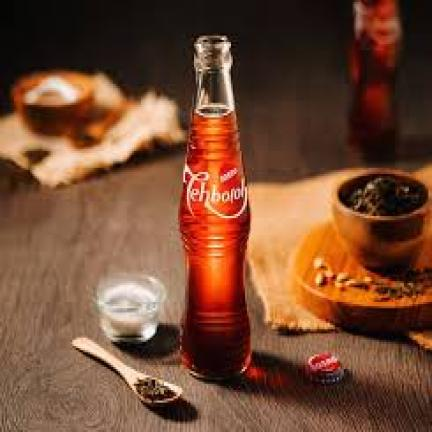container: (178, 36, 250, 373)
fluid: (178, 107, 249, 375)
fluid-surface: (192, 107, 229, 115)
